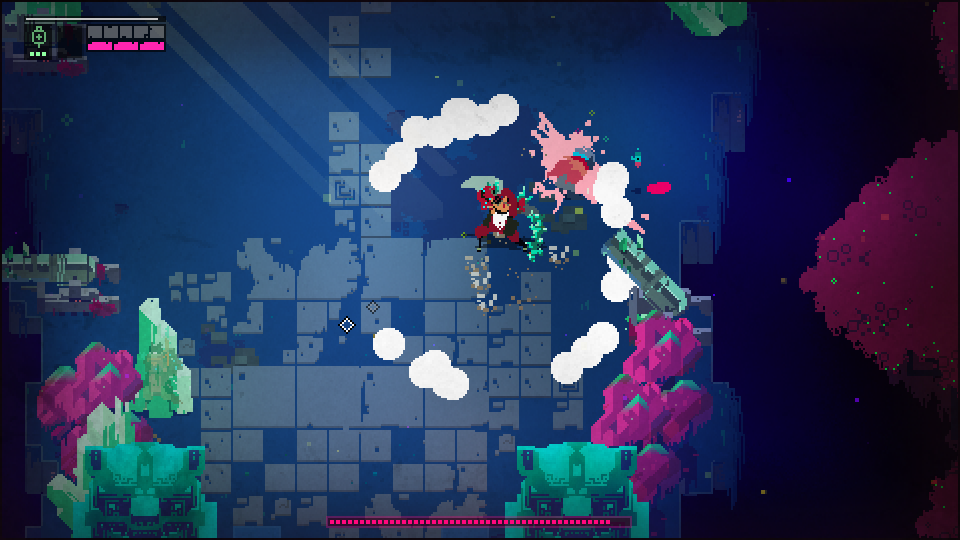hanged_man: (459, 172, 545, 263)
player: (550, 149, 593, 194)
